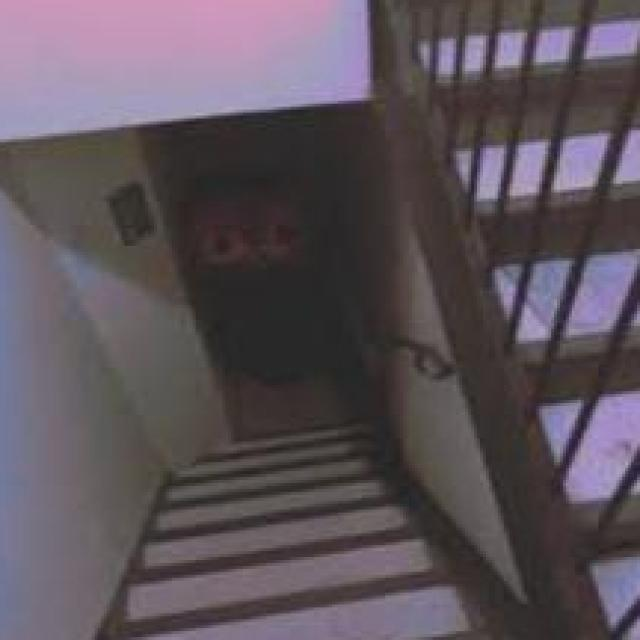downstair: (99, 463, 434, 626)
